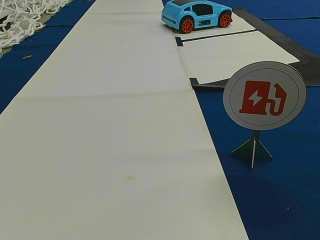battery: (223, 62, 306, 130)
car: (161, 2, 232, 34)
